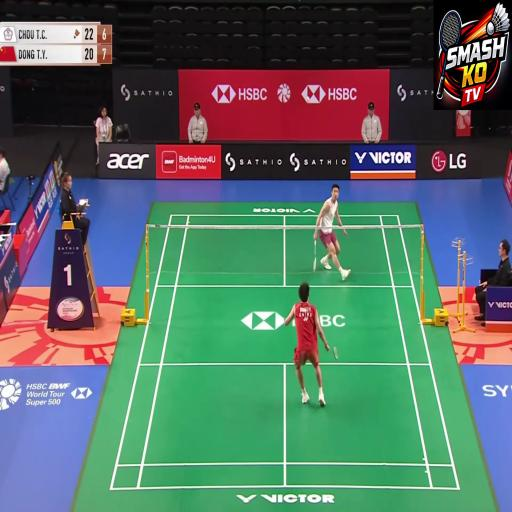player: (286, 265, 339, 421), (306, 176, 356, 286)
